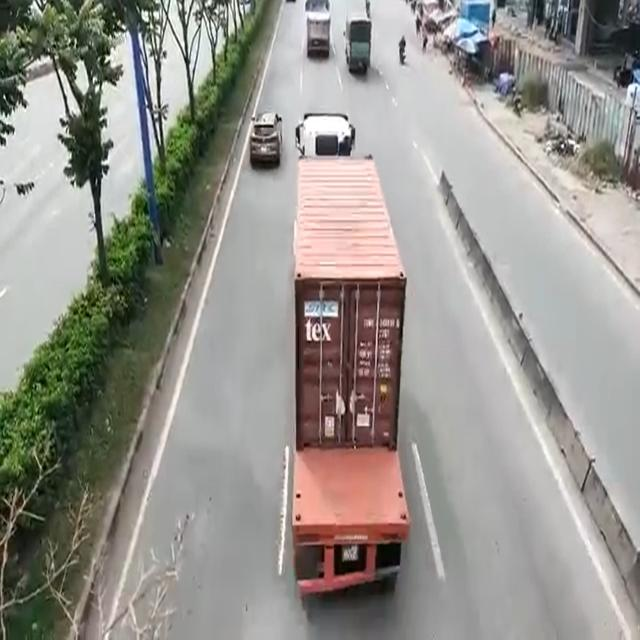car: (254, 110, 276, 168)
truck: (298, 123, 402, 576), (345, 14, 367, 74)
